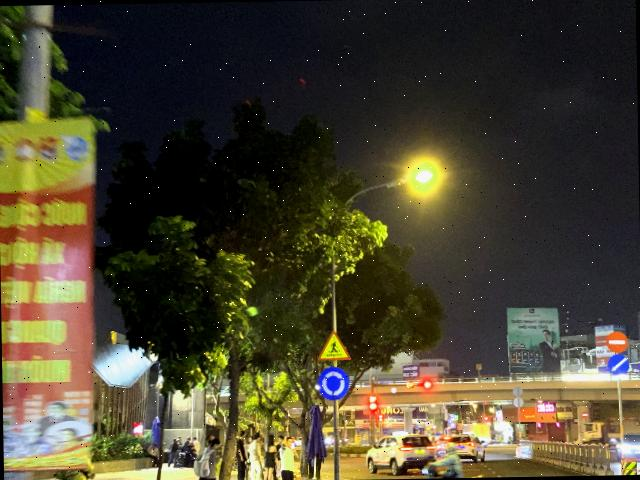cam-di-nguoc-chieu: (606, 330, 628, 354)
duong-nguoi-di-bo-cat-ngang: (316, 330, 352, 362)
huong-phai-di-vong-chuong-ngai-vat: (606, 354, 630, 376)
noi-giao-nhau-chay-theo-vong-xuyen: (318, 365, 350, 400)
